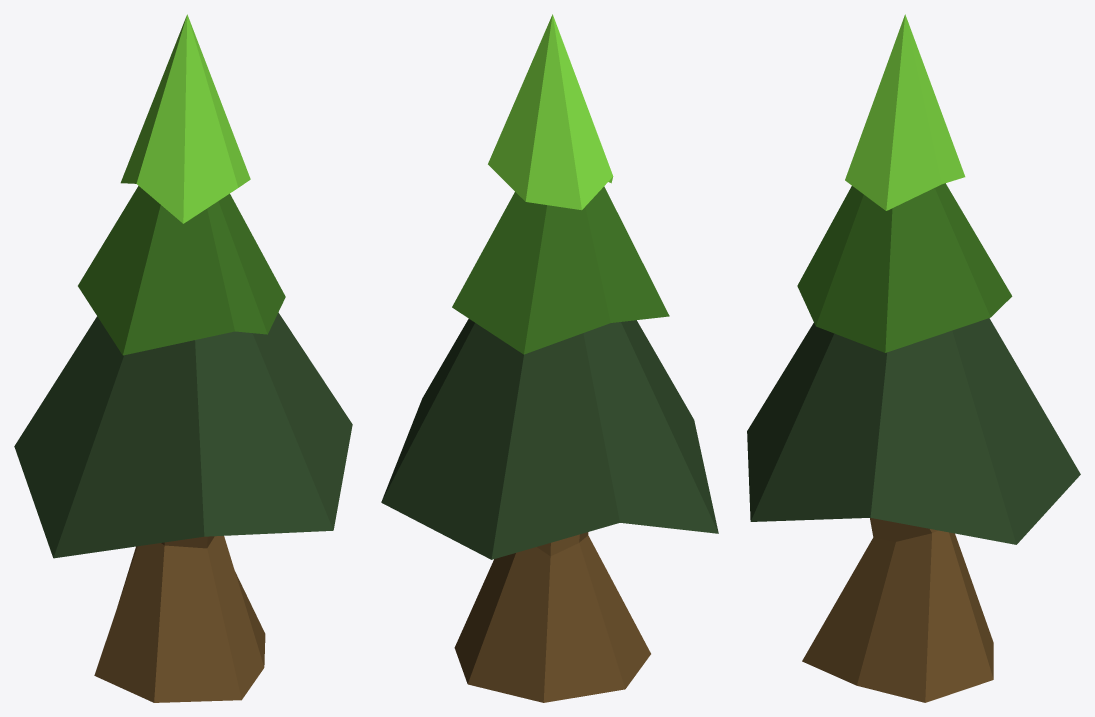
File: tree.glb
3 renders of one model, left to right at view 1: azimuth 30°, elevation 25°; view 2: azimuth 150°, elevation 25°; view 3: azimuth 270°, elevation 25°, orthographic.
Parts seen in each view (by area): view 1: Cone.002, Cone.001, Cylinder, Cone; view 2: Cone.002, Cylinder, Cone.001, Cone; view 3: Cone.002, Cone.001, Cylinder, Cone.
Part boxes in pixels (x1=…): Cone.002: x1=14, y1=312, x2=352, y2=558; Cone.001: x1=78, y1=186, x2=285, y2=355; Cylinder: x1=94, y1=536, x2=265, y2=702; Cone: x1=120, y1=14, x2=250, y2=223; Cone.002: x1=381, y1=319, x2=718, y2=559; Cylinder: x1=454, y1=532, x2=650, y2=702; Cone.001: x1=452, y1=186, x2=669, y2=354; Cone: x1=488, y1=14, x2=613, y2=210; Cone.002: x1=747, y1=318, x2=1080, y2=544; Cone.001: x1=797, y1=183, x2=1012, y2=352; Cylinder: x1=802, y1=518, x2=993, y2=702; Cone: x1=845, y1=14, x2=965, y2=210.
Size of the model in its own units: 2.99 by 6.22 by 2.91.
